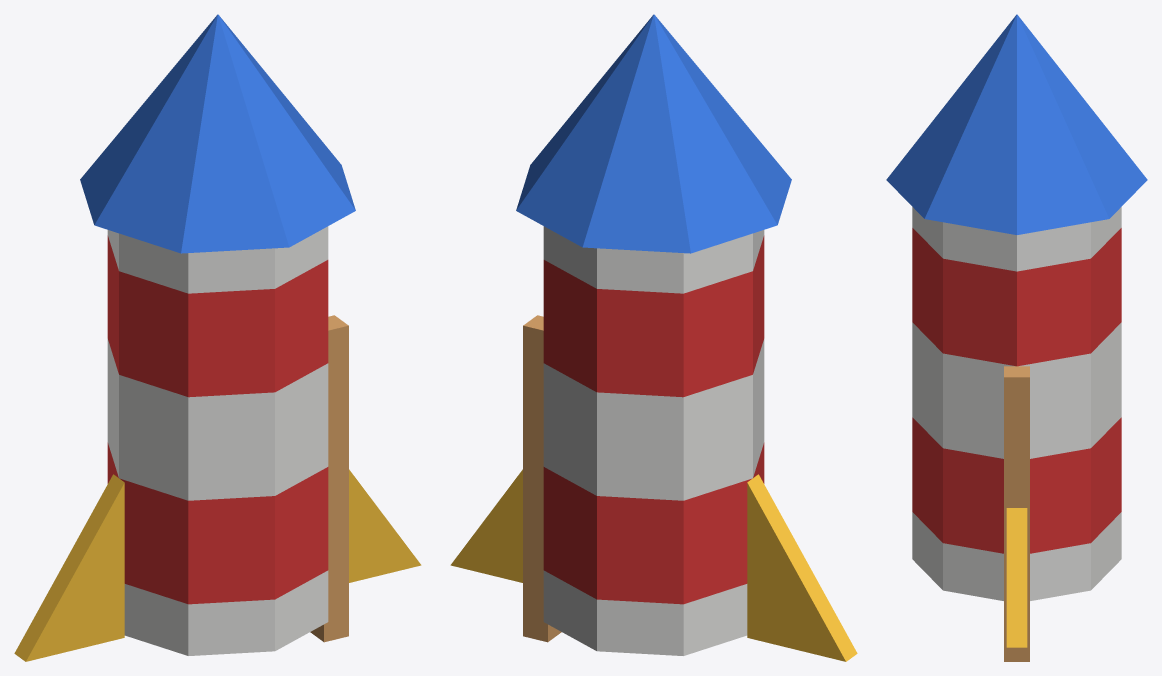
File: Firework.fbx
3 views of the same model, side by side, from view 1: azimuth 30°, elevation 25°; view 2: azimuth 150°, elevation 25°; view 3: azimuth 270°, elevation 25° (orthographic). The views are drawn at different scales.
Visible parts, largest first — view 1: Firework; view 2: Firework; view 3: Firework.
Part boxes in pixels (x1,y1,x2,y2): Firework: (14,14,421,661); Firework: (450,14,857,661); Firework: (886,14,1147,661).
Bounding box in the file's own units: 1.6 × 2.5 × 1.
Materials: 1 (1 with a texture image).
